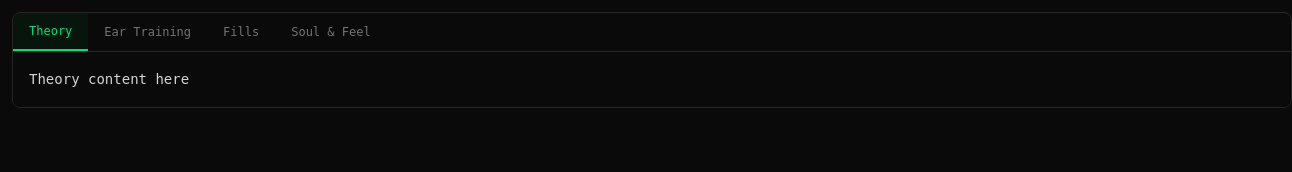
Test: LessonTabs › switches to Soul content on click
The image size is (1292, 172).
Click the button "Soul & Feel": [331, 32] box [275,13,387,51]
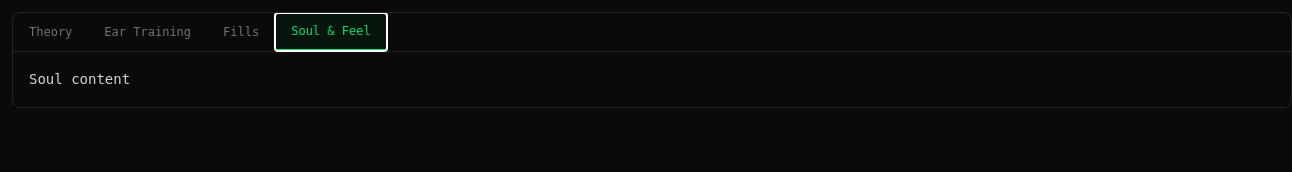
Expected: the text "Soul content" is shown, [29,71,130,87]
